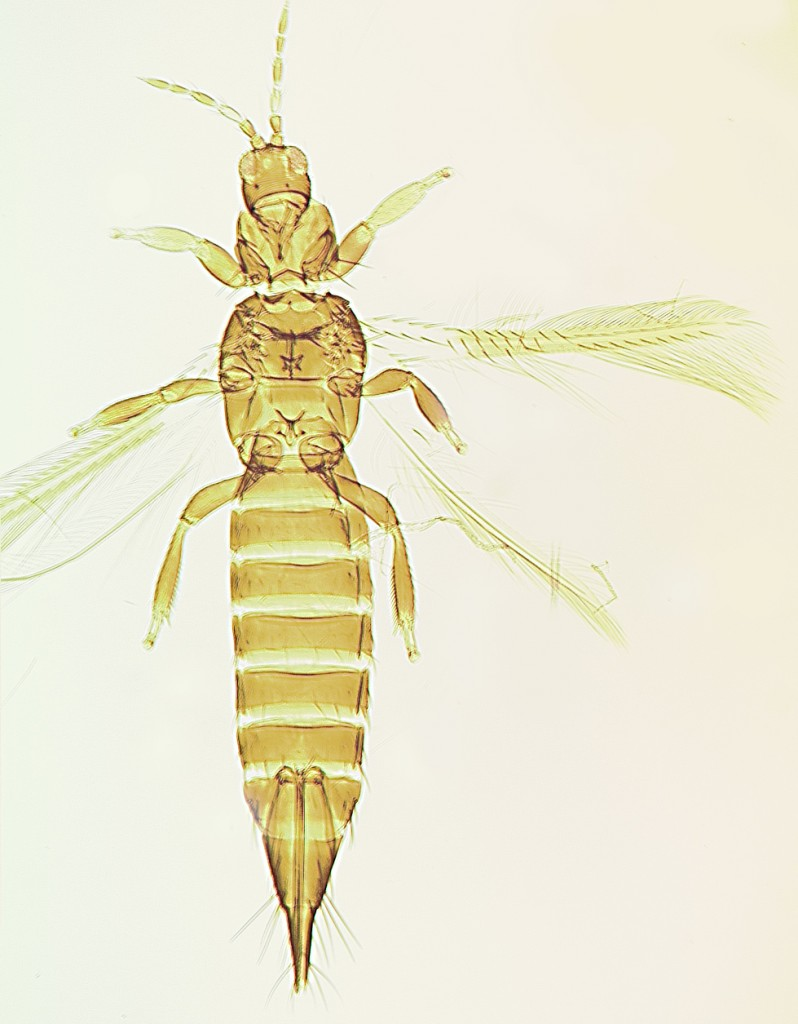Thripidae: (1, 5, 798, 1001)
